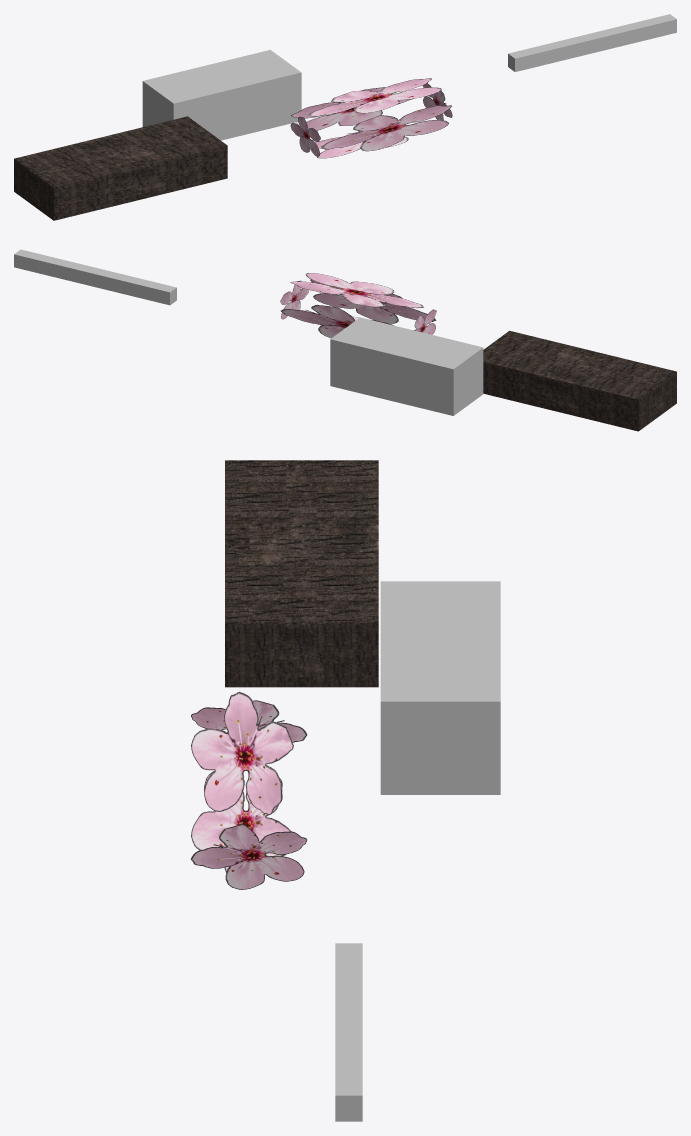
The model's file is prueba 1.FBX.
3 views of the same model, one above another, from view 1: azimuth 30°, elevation 25°; view 2: azimuth 150°, elevation 25°; view 3: azimuth 270°, elevation 25° (orthographic). The views are drawn at different scales.
Visible parts, largest first — view 1: Box002; view 2: Box002; view 3: Box002.
Boxes of the visible parts, bbox=[...] form: Box002: bbox=[14, 14, 676, 220]; Box002: bbox=[14, 249, 676, 431]; Box002: bbox=[191, 460, 500, 1121].
Size of the model in its own units: 1007 by 71.66 by 215.
